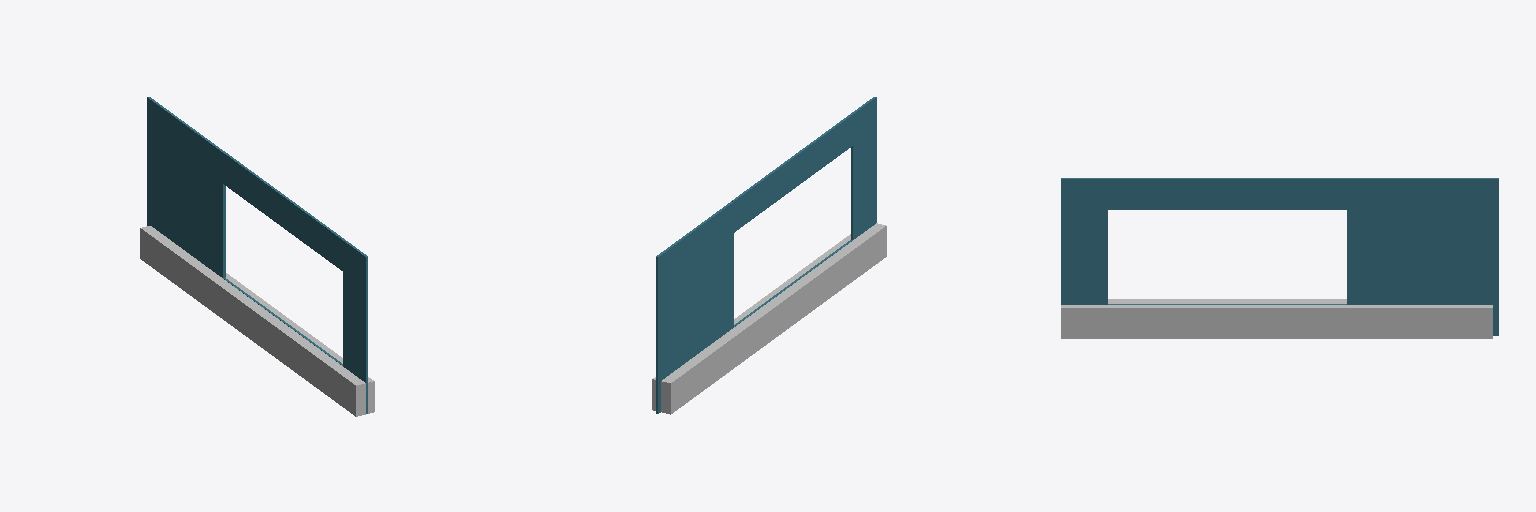
The model's file is dindingsampingkanan.obj.
3 renders of one model, left to right at view 1: azimuth 30°, elevation 25°; view 2: azimuth 150°, elevation 25°; view 3: azimuth 270°, elevation 25°, orthographic.
Parts seen in each view (by area): view 1: Cube.003_Cube.082_Cube.003_Cube.006, Cube.001_Cube.093_Cube.001_Cube.002_Cube.001_Cube.093_Cube.001_C, Cube.083_Cube.084_Cube.083_Cube.002_Cube.083_Cube.084_Cube.083_C, Cube.090_Cube.091_Cube.090_Cube.002_Cube.090_Cube.091_Cube.090_C; view 2: Cube.001_Cube.093_Cube.001_Cube.002_Cube.001_Cube.093_Cube.001_C, Cube.003_Cube.082_Cube.003_Cube.006, Cube.083_Cube.084_Cube.083_Cube.002_Cube.083_Cube.084_Cube.083_C, Cube.090_Cube.091_Cube.090_Cube.002_Cube.090_Cube.091_Cube.090_C; view 3: Cube.001_Cube.093_Cube.001_Cube.002_Cube.001_Cube.093_Cube.001_C, Cube.003_Cube.082_Cube.003_Cube.006, Cube.083_Cube.084_Cube.083_Cube.002_Cube.083_Cube.084_Cube.083_C, Cube.090_Cube.091_Cube.090_Cube.002_Cube.090_Cube.091_Cube.090_C.
Part boxes in pixels (x1,y1,x2,y2): Cube.003_Cube.082_Cube.003_Cube.006: (140, 226, 374, 416); Cube.001_Cube.093_Cube.001_Cube.002_Cube.001_Cube.093_Cube.001_C: (147, 97, 225, 277); Cube.083_Cube.084_Cube.083_Cube.002_Cube.083_Cube.084_Cube.083_C: (223, 152, 367, 287); Cube.090_Cube.091_Cube.090_Cube.002_Cube.090_Cube.091_Cube.090_C: (343, 241, 367, 413); Cube.001_Cube.093_Cube.001_Cube.002_Cube.001_Cube.093_Cube.001_C: (656, 201, 733, 413); Cube.003_Cube.082_Cube.003_Cube.006: (652, 223, 886, 414); Cube.083_Cube.084_Cube.083_Cube.002_Cube.083_Cube.084_Cube.083_C: (732, 97, 875, 232); Cube.090_Cube.091_Cube.090_Cube.002_Cube.090_Cube.091_Cube.090_C: (851, 97, 876, 239); Cube.001_Cube.093_Cube.001_Cube.002_Cube.001_Cube.093_Cube.001_C: (1347, 178, 1498, 335); Cube.003_Cube.082_Cube.003_Cube.006: (1061, 299, 1492, 338); Cube.083_Cube.084_Cube.083_Cube.002_Cube.083_Cube.084_Cube.083_C: (1062, 178, 1346, 209); Cube.090_Cube.091_Cube.090_Cube.002_Cube.090_Cube.091_Cube.090_C: (1061, 178, 1107, 304).
Bounding box in the file's own units: 2.46 × 20.04 × 50.48.